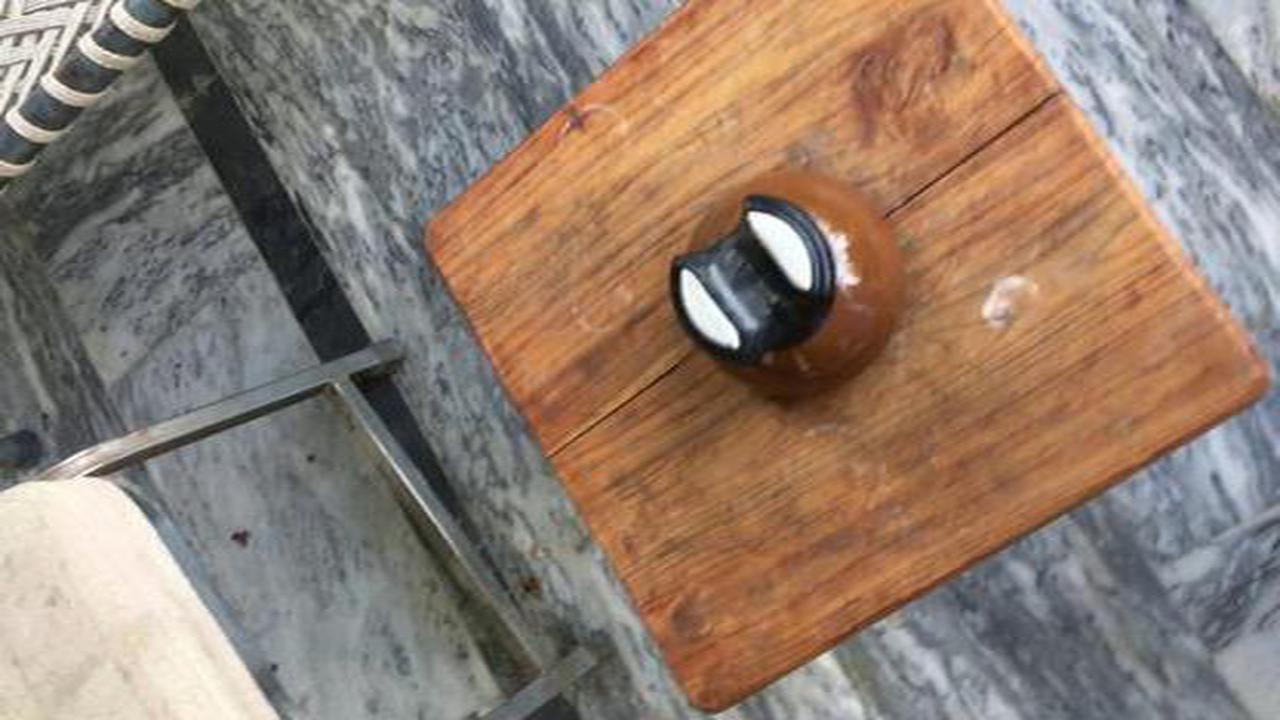insulator_pin: (650, 160, 927, 414)
